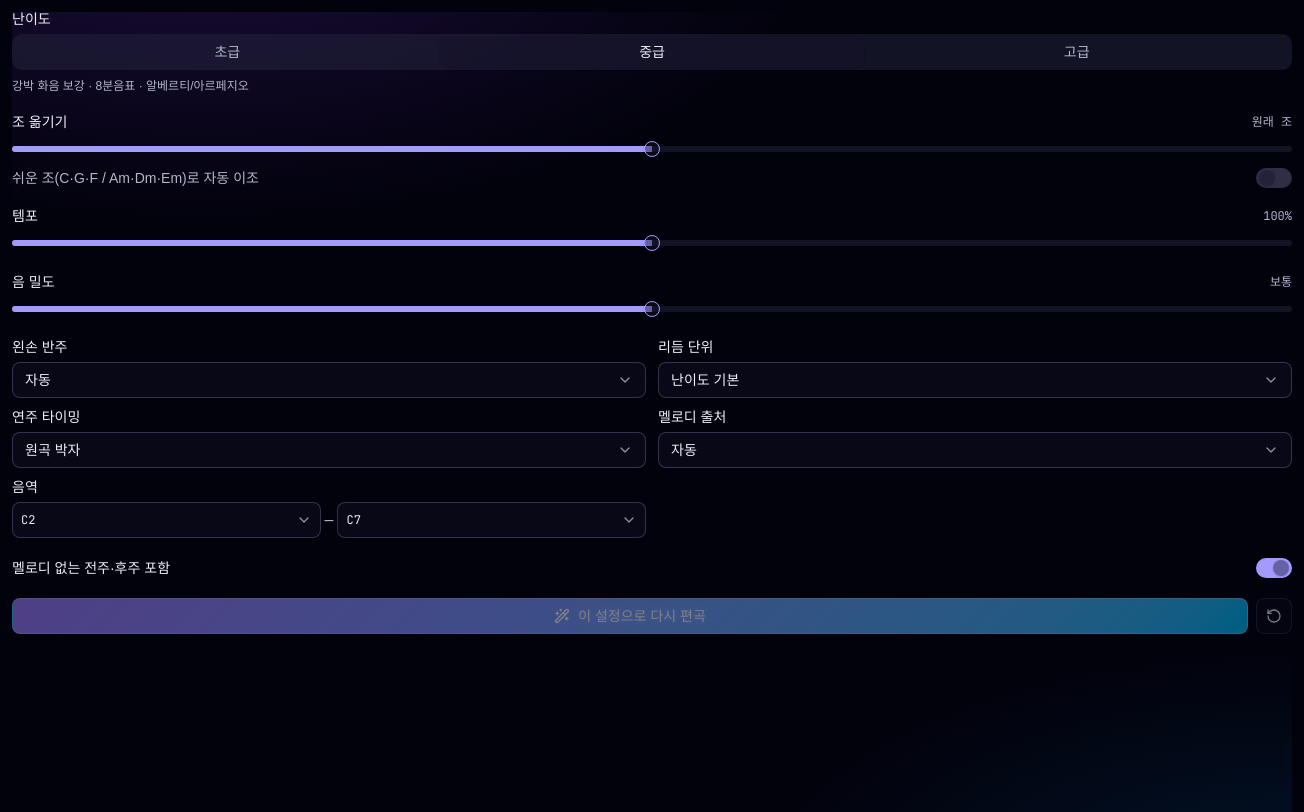
ParameterPanel › enables submit only after a change and submits validated params
The width and height of the screenshot is (1304, 812).
Expected: the button "이 설정으로 다시 편곡" is disabled, top-left (12, 598), bottom-right (1248, 634)
Click the tab "고급".
click(1077, 52)  # box top-left (864, 37), bottom-right (1289, 67)
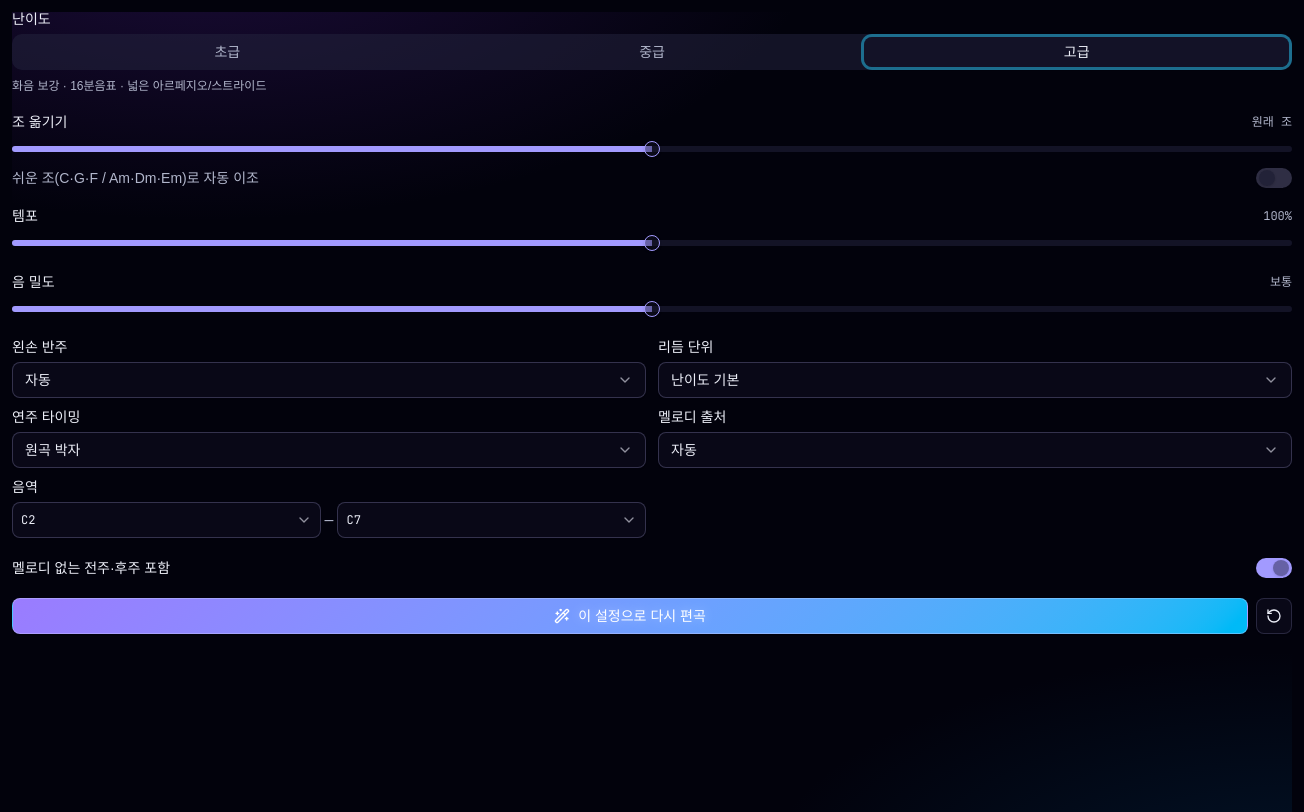
Click the switch named "쉬운 조" in the row of "쉬운 조(C·G·F / Am·Dm·Em)로 자동 이조".
click(1274, 178)  # box top-left (1256, 168), bottom-right (1292, 188)
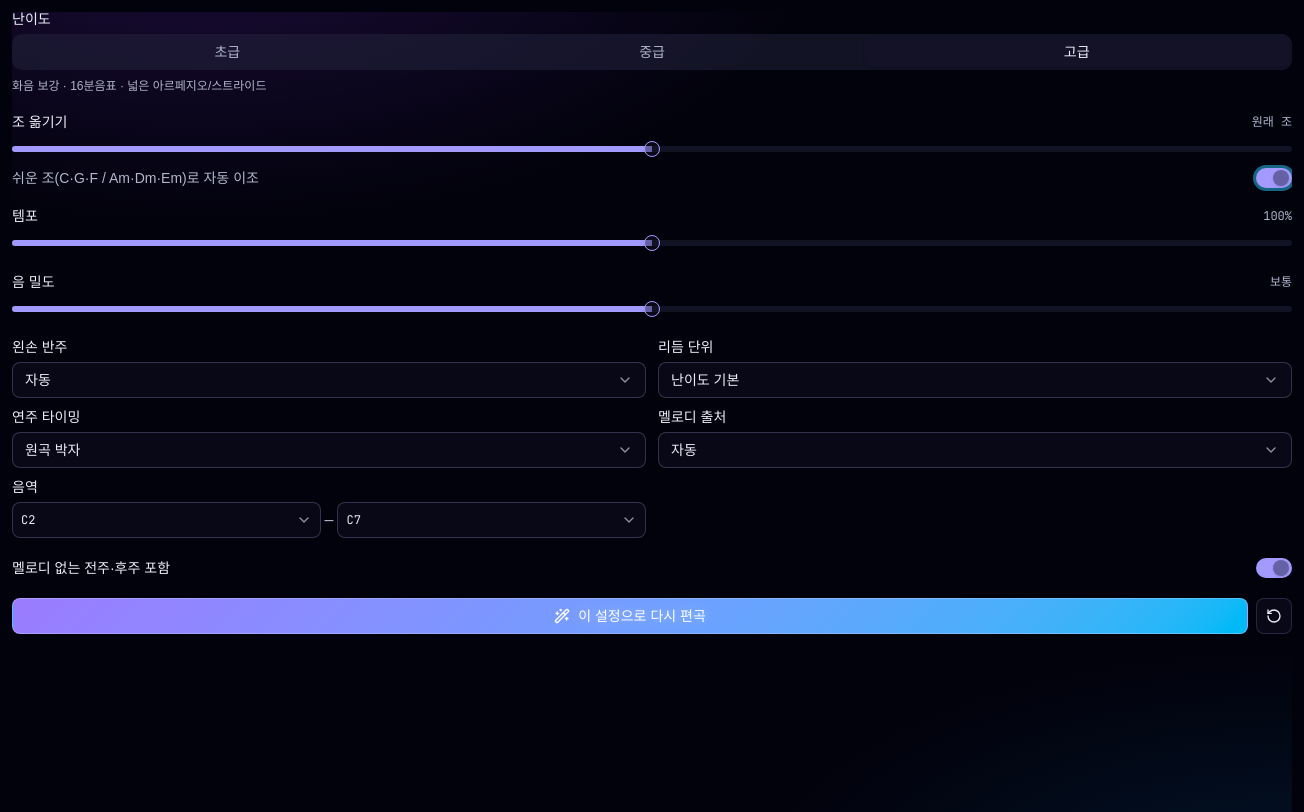
Expected: the button "이 설정으로 다시 편곡" is enabled
Click the button "이 설정으로 다시 편곡".
click(630, 616)  # box top-left (12, 598), bottom-right (1248, 634)
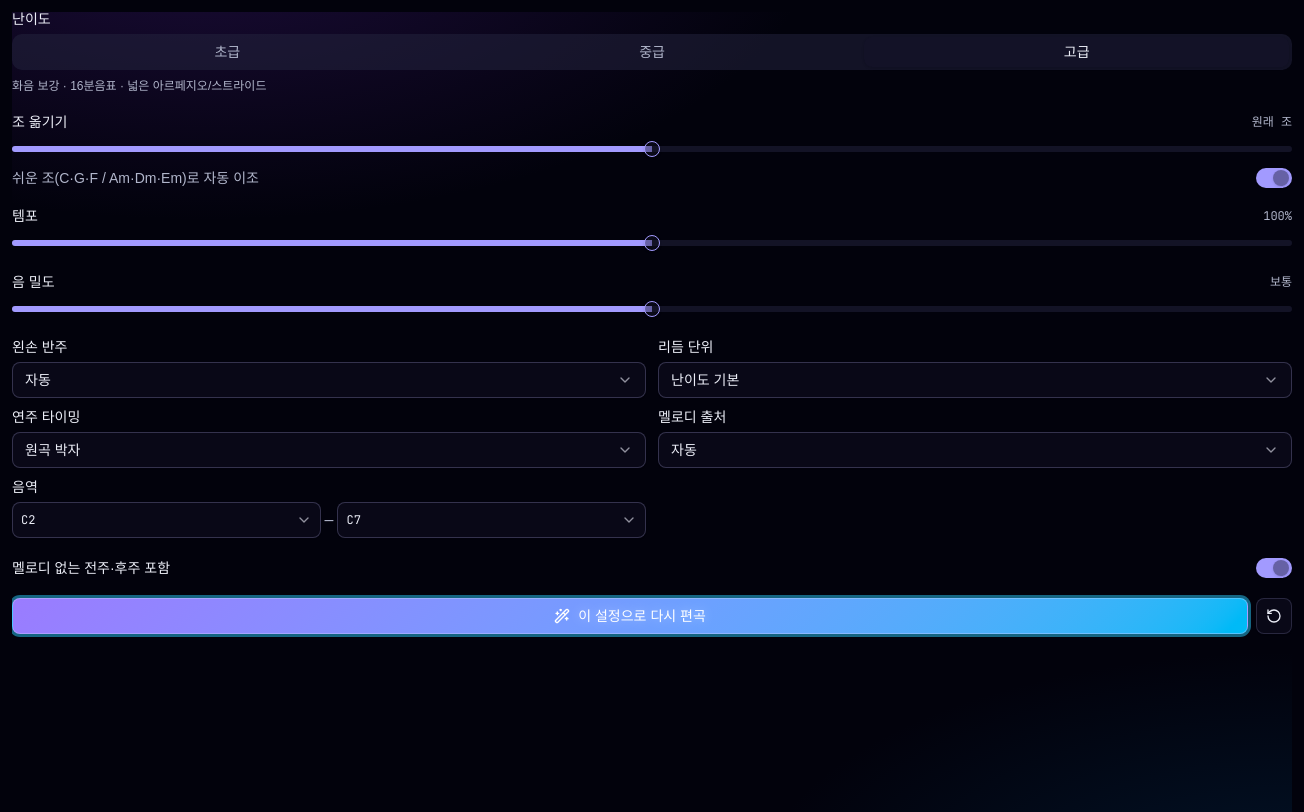
Click the button named "되돌리기".
click(1274, 616)  # box top-left (1256, 598), bottom-right (1292, 634)
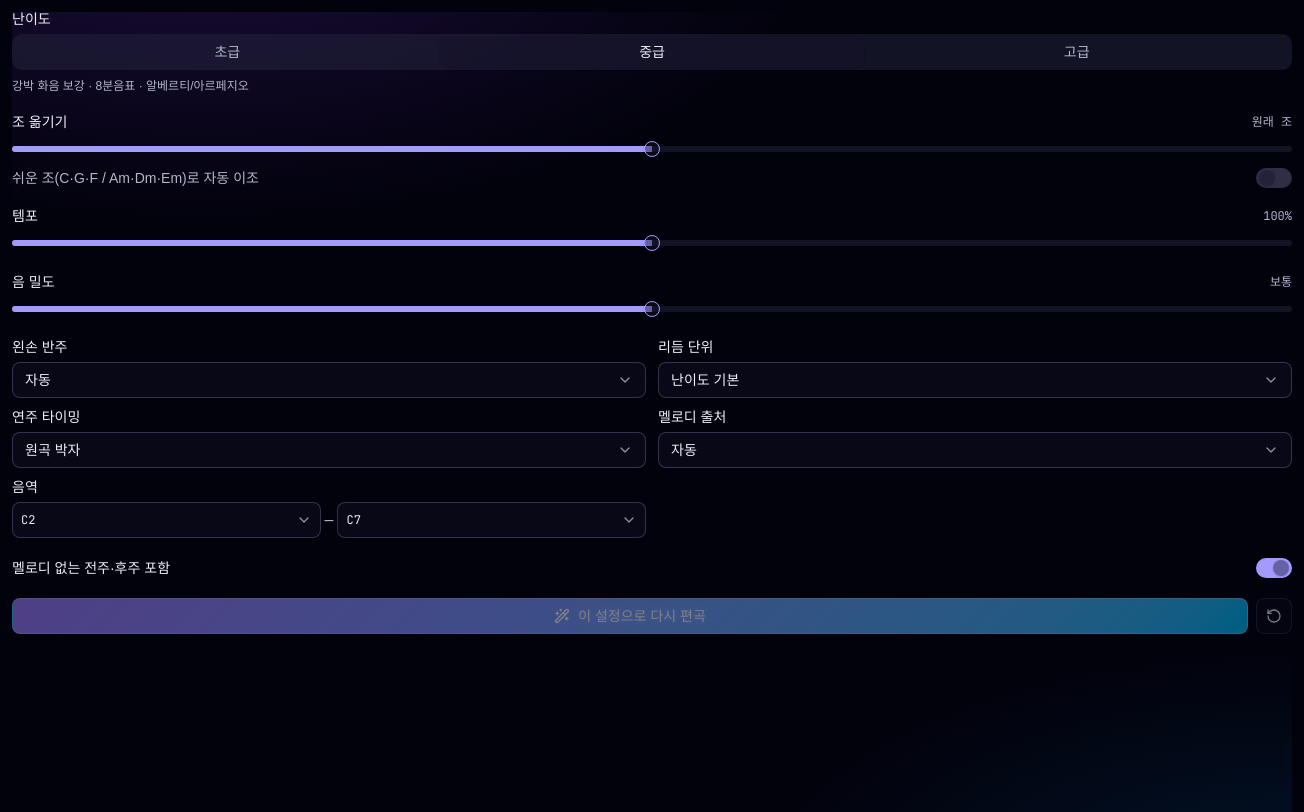
Expected: the button "이 설정으로 다시 편곡" is disabled, top-left (12, 598), bottom-right (1248, 634)
